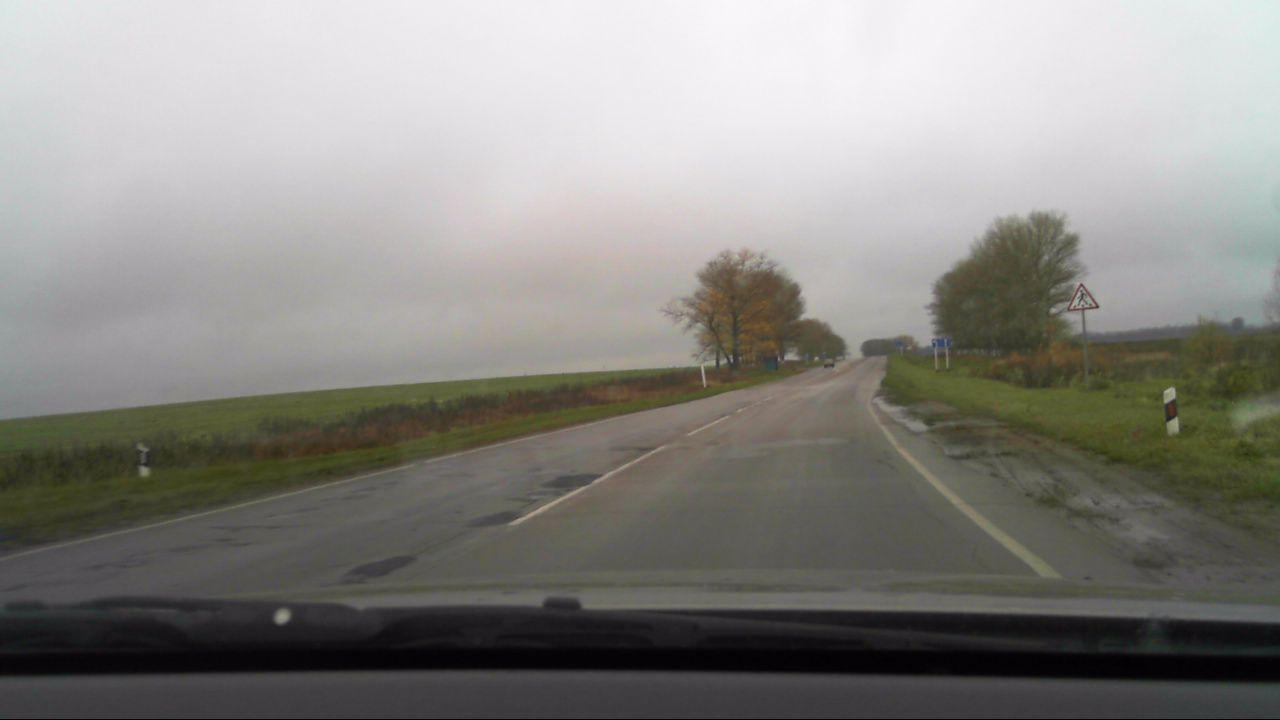1_22: (1068, 280, 1099, 312)
